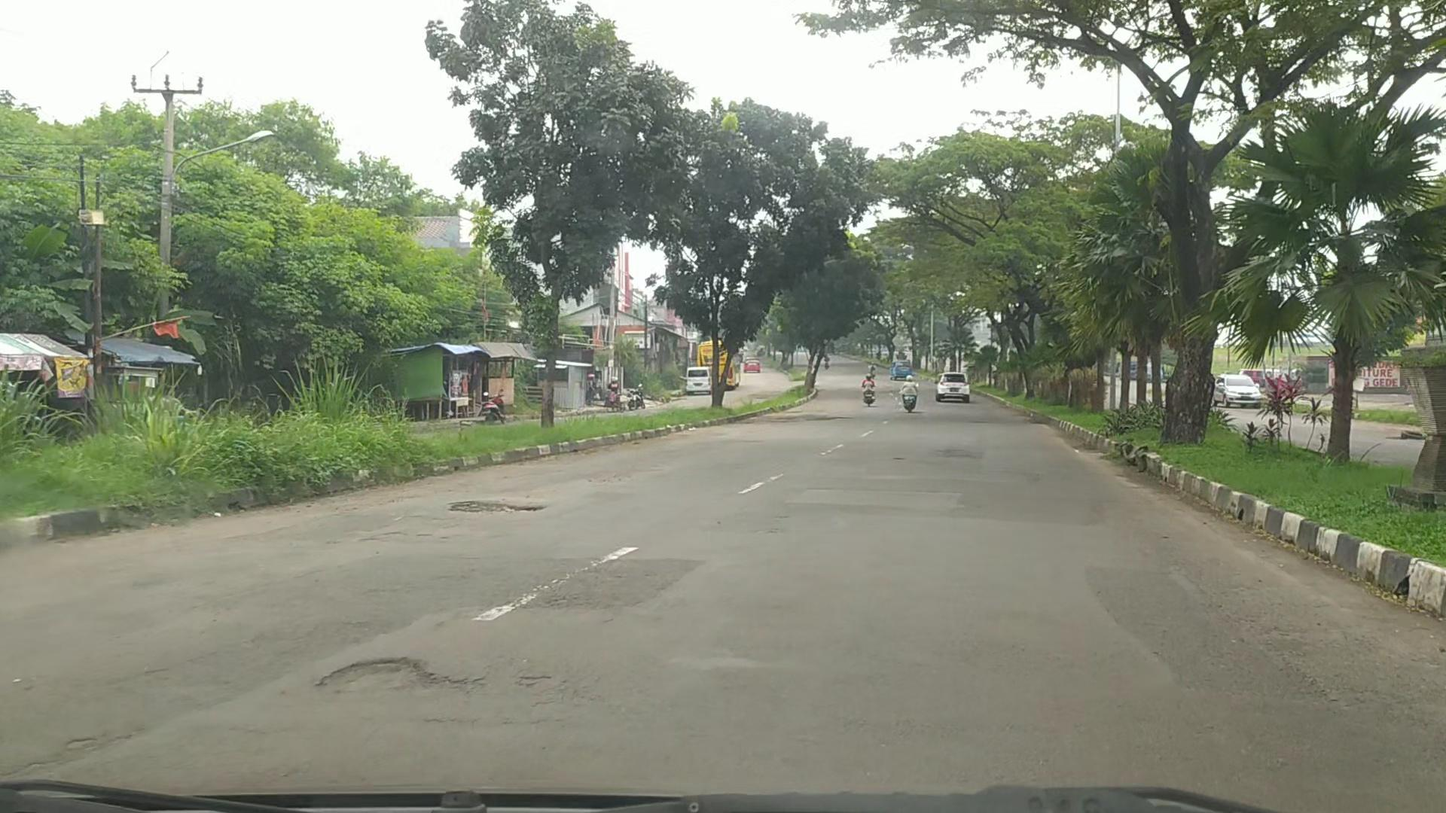pothole: (323, 656, 449, 693), (449, 497, 539, 513)
